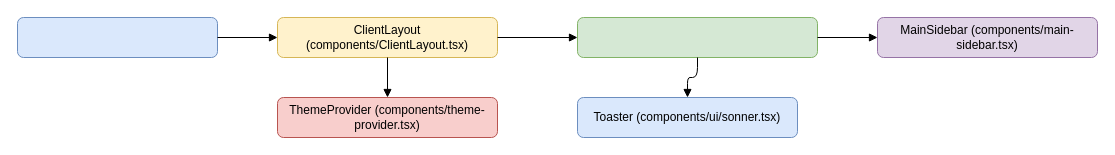
The diagram is 1115 pixels wide and 155 high, and some of its shapes have lost their labels. Here are the shapes that lost their labels. From the top down, the box of each, then its label:
(16, 16, 218, 58): RootLayout (app/layout.tsx)
(576, 16, 818, 58): DashboardLayout (layout/dashboard-layout.tsx)
